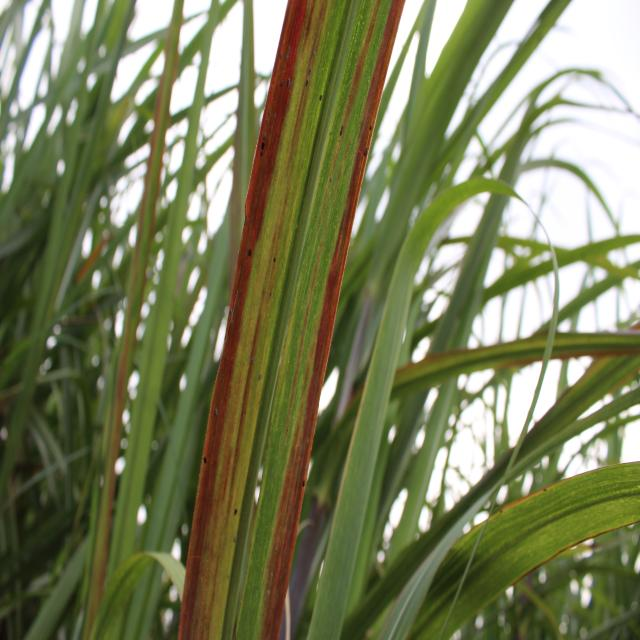Sugarcane: (179, 0, 404, 640), (402, 458, 639, 640)
